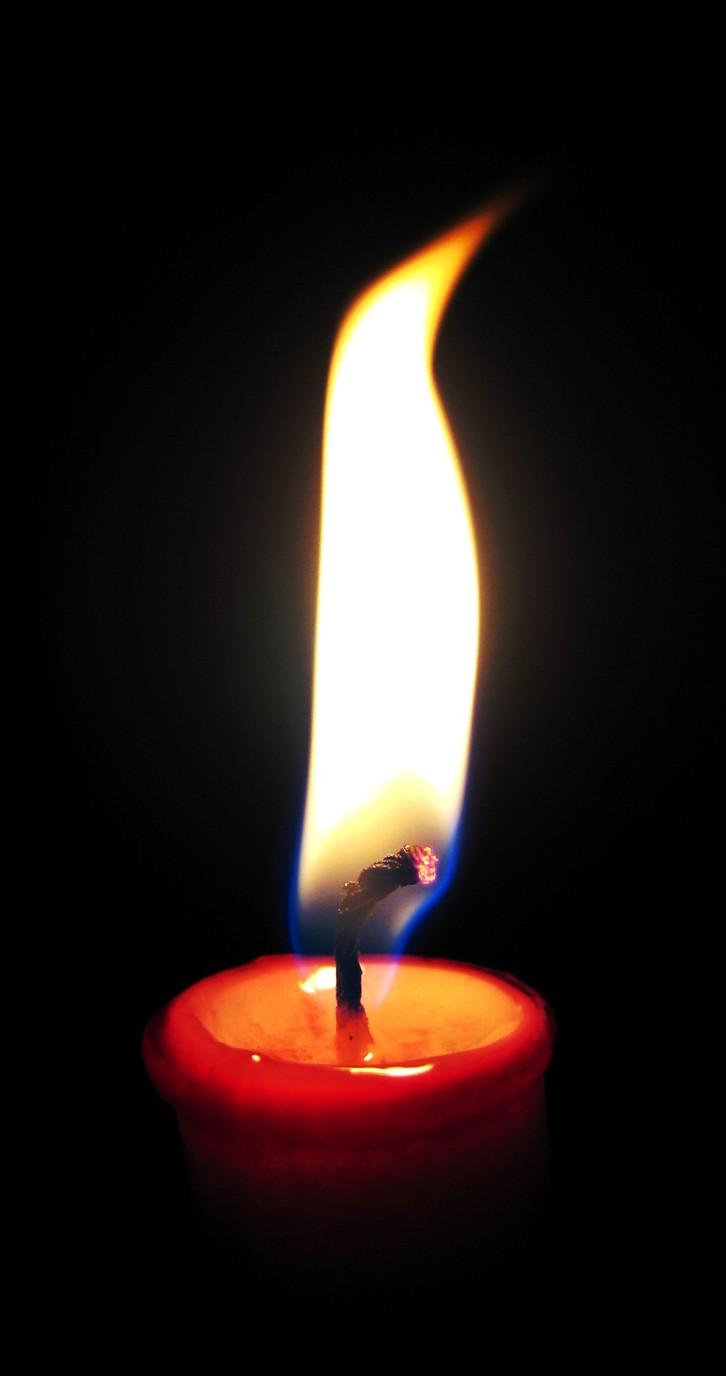Fire: (298, 190, 508, 1007)
